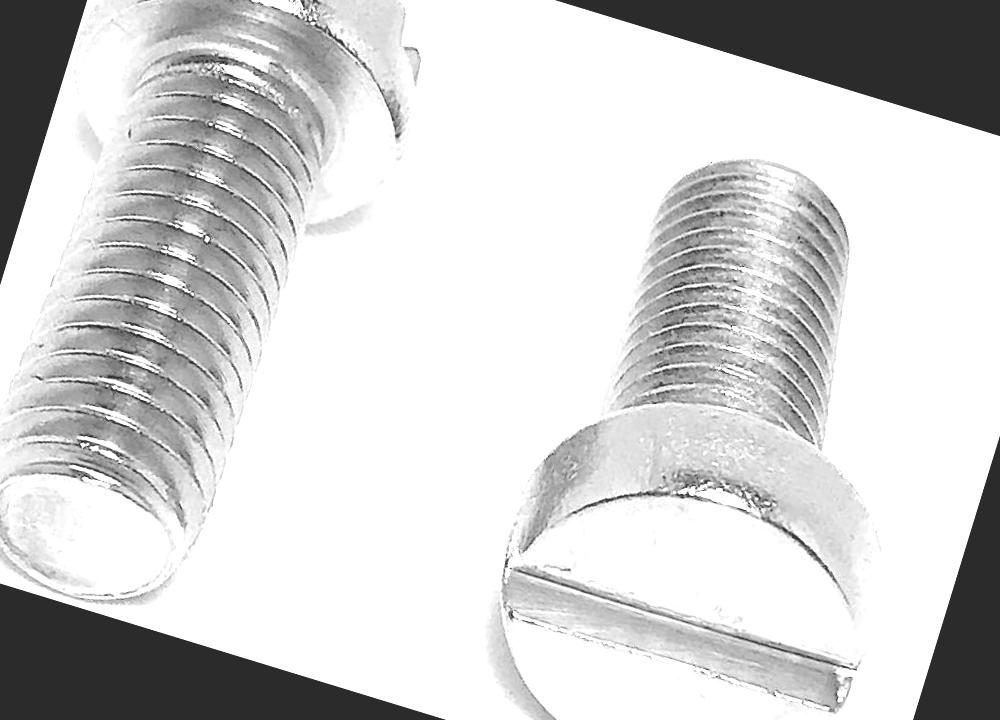slotted: (463, 443, 897, 720)
